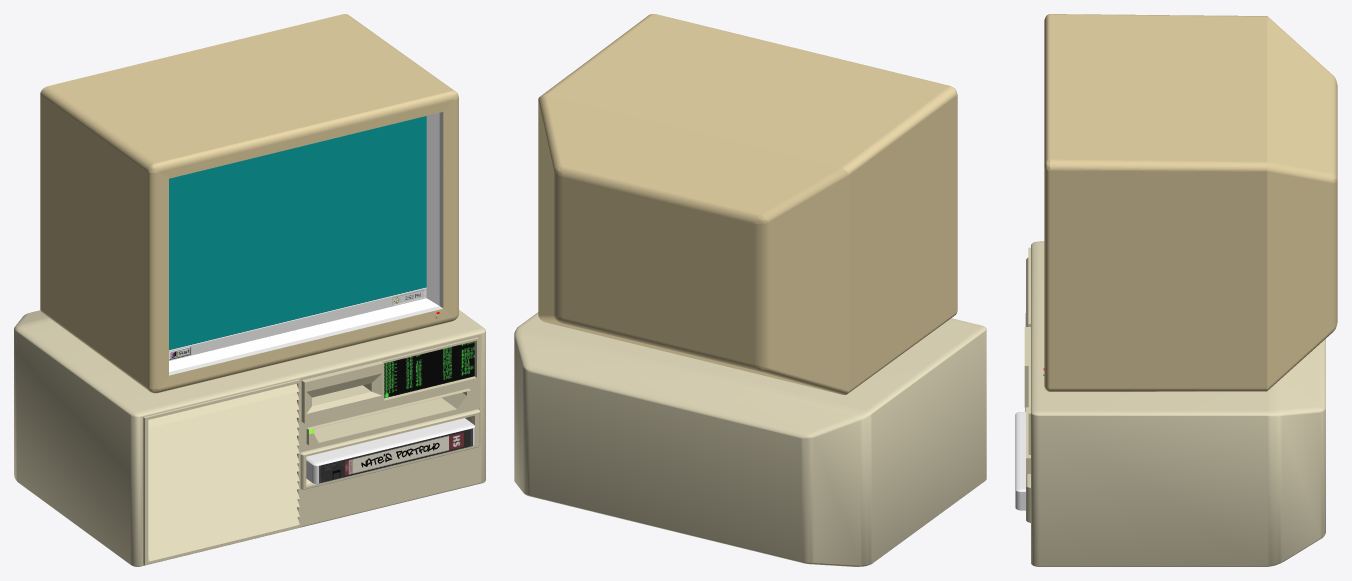
Rendered from comp-transformed.glb.
3 views of the same model, side by side, from view 1: azimuth 30°, elevation 25°; view 2: azimuth 150°, elevation 25°; view 3: azimuth 270°, elevation 25° (orthographic).
Parts seen in each view (by area): view 1: Compy; view 2: Compy; view 3: Compy.
Boxes of the visible parts, left/top/right/bottom form: Compy: left=14, top=14, right=485, bottom=566; Compy: left=514, top=14, right=986, bottom=566; Compy: left=1015, top=14, right=1337, bottom=566.
Size of the model in its own units: 0.9113 by 0.9649 by 0.7134.
9 materials, 3 textured.
